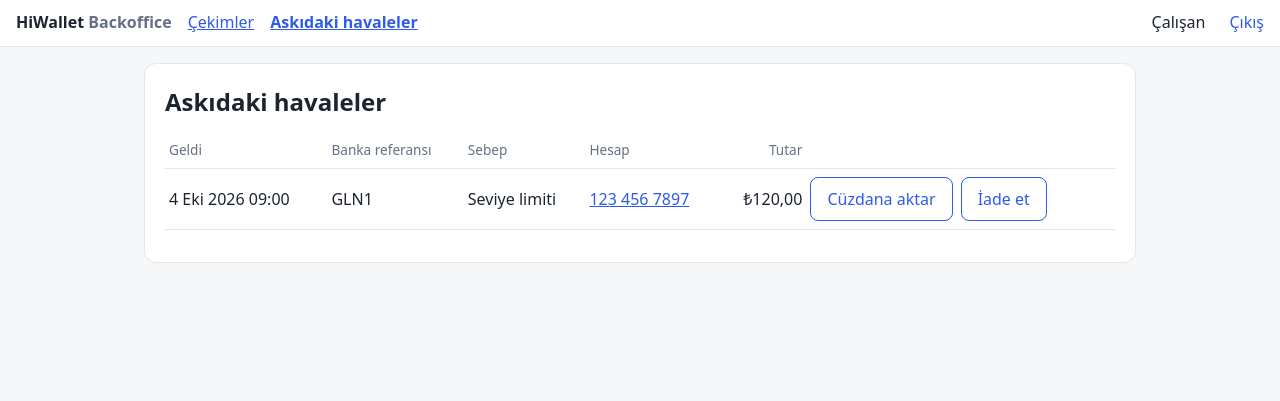
it: SuspendedDepositsPage › limit yetmezse wallet-api’nin mesajını gösteriyor, havale listede kalıyor
This screenshot has width=1280, height=401.
Click the button "Cüzdana aktar": [882, 199] box x1=810 y1=177 x2=953 y2=221
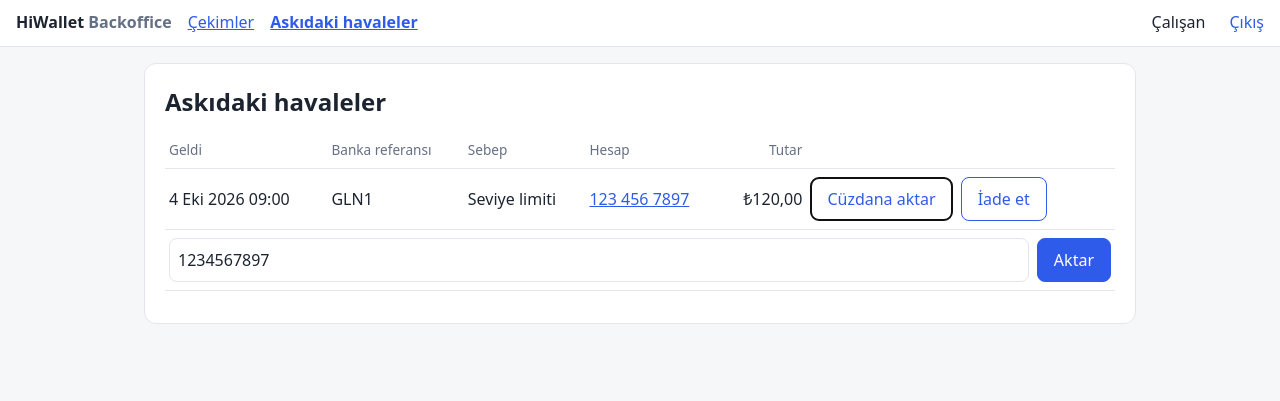
Click the button "Aktar": [1074, 260] box x1=1037 y1=238 x2=1111 y2=282
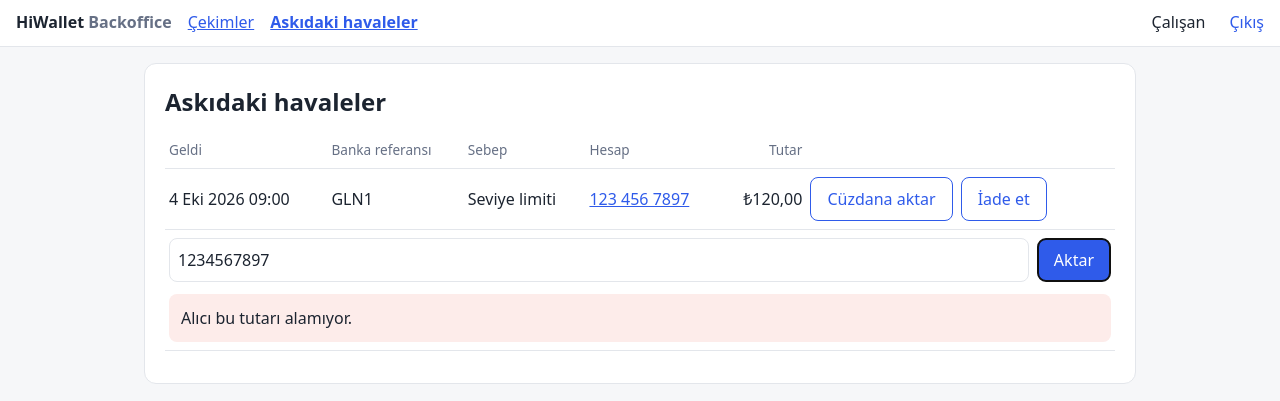
Expected: the text "Seviye limiti" is shown, x1=464 y1=169 x2=585 y2=230
Expected: the text "Alıcı bu tutarı alamıyor." is shown, x1=181 y1=307 x2=352 y2=329
